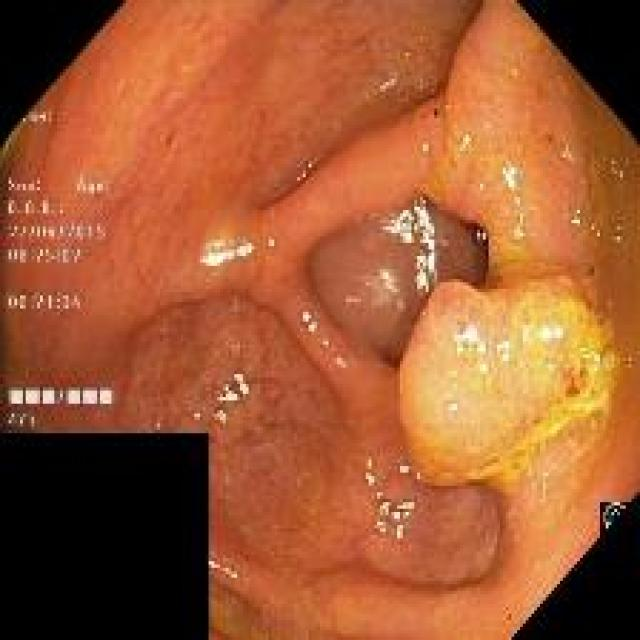Polyps: (438, 4, 632, 307), (400, 276, 616, 492)
